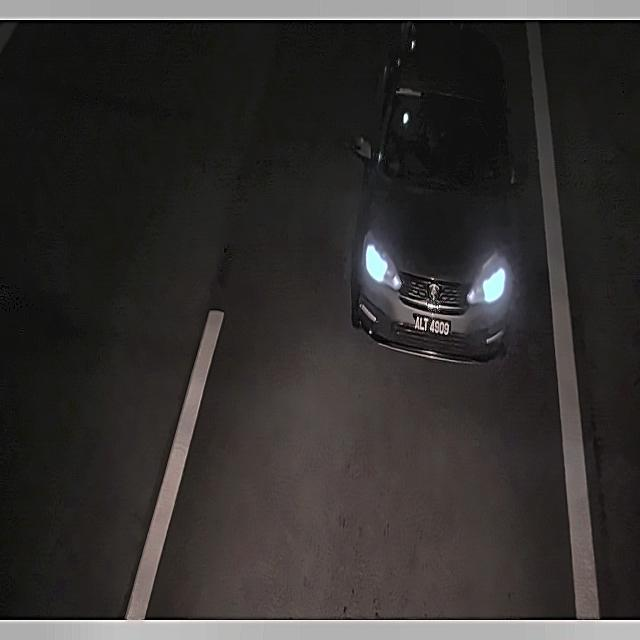car: (404, 306, 456, 344)
